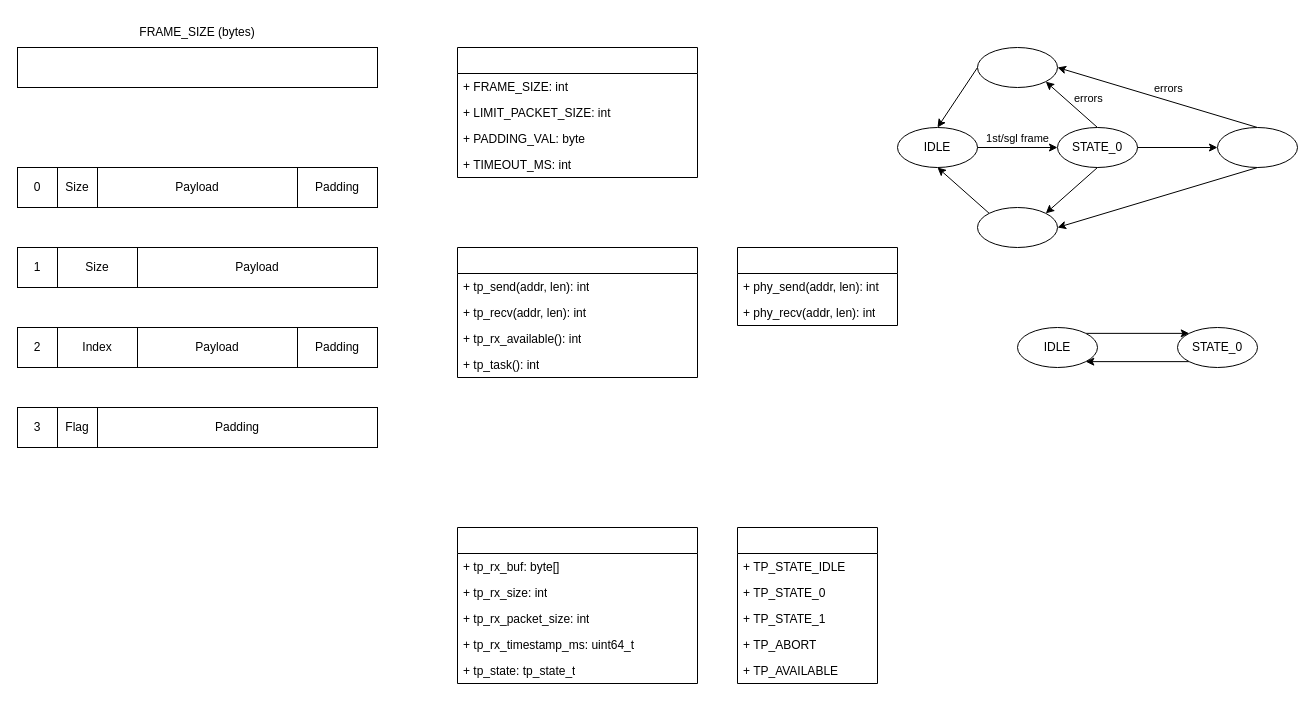
Image size: 1315x703. Some labels were removed from this diagram. Each missing label, with the box of its shape:
ABORT: (976, 46, 1058, 88)
AVAILABLE: (976, 206, 1058, 248)
Constants: (456, 46, 698, 178)
Internal Data: (456, 526, 698, 684)
PHY API: (736, 246, 898, 326)
STATE_1: (1216, 126, 1298, 168)
TP API: (456, 246, 698, 378)
tp_state_t: (736, 526, 878, 684)
User Data: (16, 46, 378, 88)
